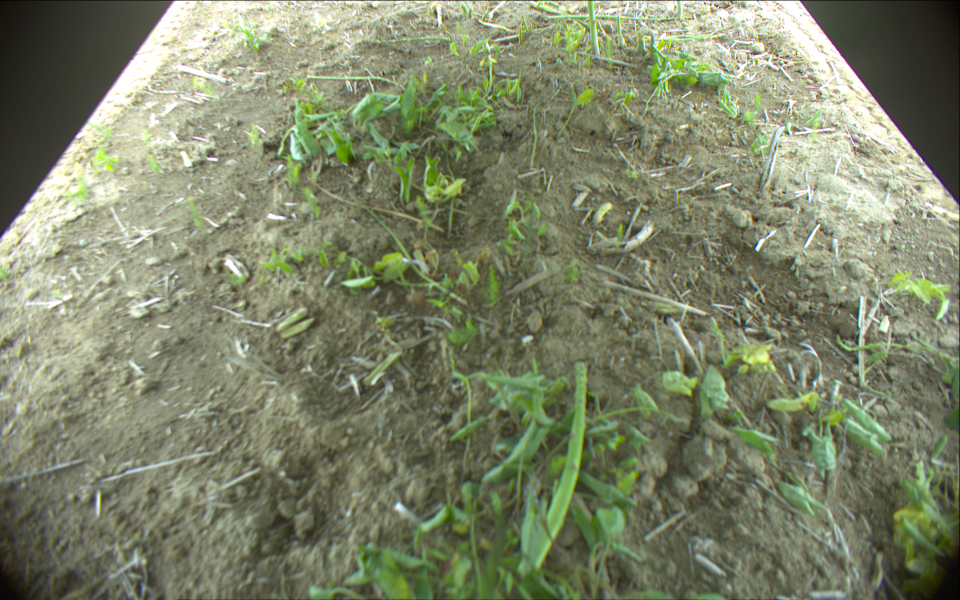aspa: (533, 360, 588, 567), (668, 21, 741, 46), (307, 74, 406, 92), (471, 14, 557, 34), (547, 13, 697, 21), (372, 32, 454, 45), (588, 1, 599, 55), (646, 34, 725, 41), (615, 12, 623, 37), (675, 1, 683, 22)
